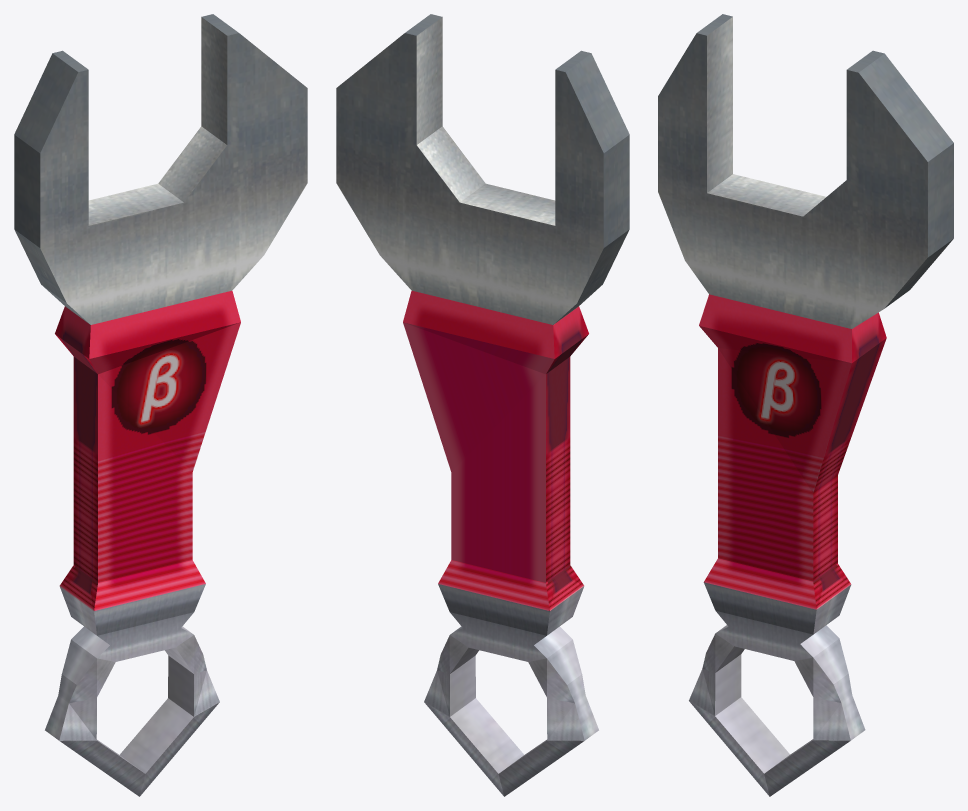
The model's file is datan_common_spanner_beta_42c4c99d.obj.
The picture shows the model from 3 angles, left to right: view 1: azimuth 30°, elevation 25°; view 2: azimuth 150°, elevation 25°; view 3: azimuth 330°, elevation 25°; orthographic projection.
Parts seen in each view (by area): view 1: datan_common_spanner_beta_42c4c99d_mesh00; view 2: datan_common_spanner_beta_42c4c99d_mesh00; view 3: datan_common_spanner_beta_42c4c99d_mesh00.
Boxes of the visible parts, bbox=[...] form: datan_common_spanner_beta_42c4c99d_mesh00: bbox=[14, 14, 307, 796]; datan_common_spanner_beta_42c4c99d_mesh00: bbox=[336, 14, 629, 796]; datan_common_spanner_beta_42c4c99d_mesh00: bbox=[658, 14, 953, 796].
Size of the model in its own units: 59.58 by 159 by 13.31.
1 material, 1 textured.
